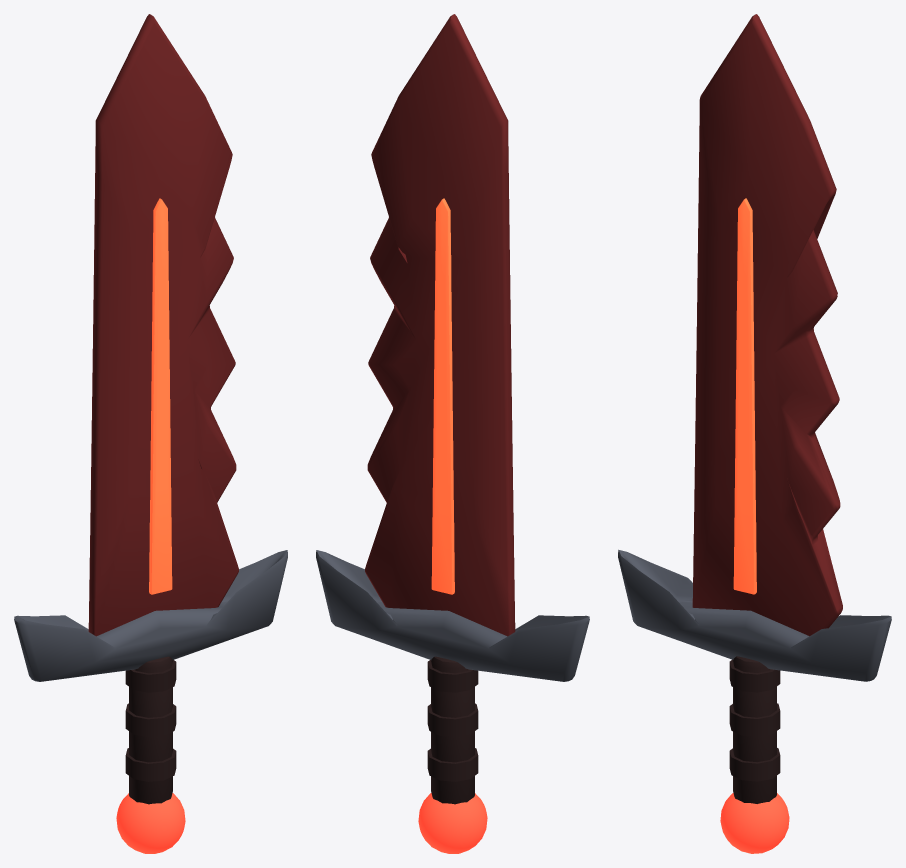
File: serrated.glb
3 renders of one model, left to right at view 1: azimuth 30°, elevation 25°; view 2: azimuth 150°, elevation 25°; view 3: azimuth 330°, elevation 25°, orthographic.
Parts seen in each view (by area): view 1: wpn_serrated; view 2: wpn_serrated; view 3: wpn_serrated.
Boxes of the visible parts, x1,y1,x2,y2 form: wpn_serrated: (14, 14, 287, 853); wpn_serrated: (316, 14, 589, 853); wpn_serrated: (618, 14, 891, 853).
Bounding box in the file's own units: 0.6369 × 1.86 × 0.14.
